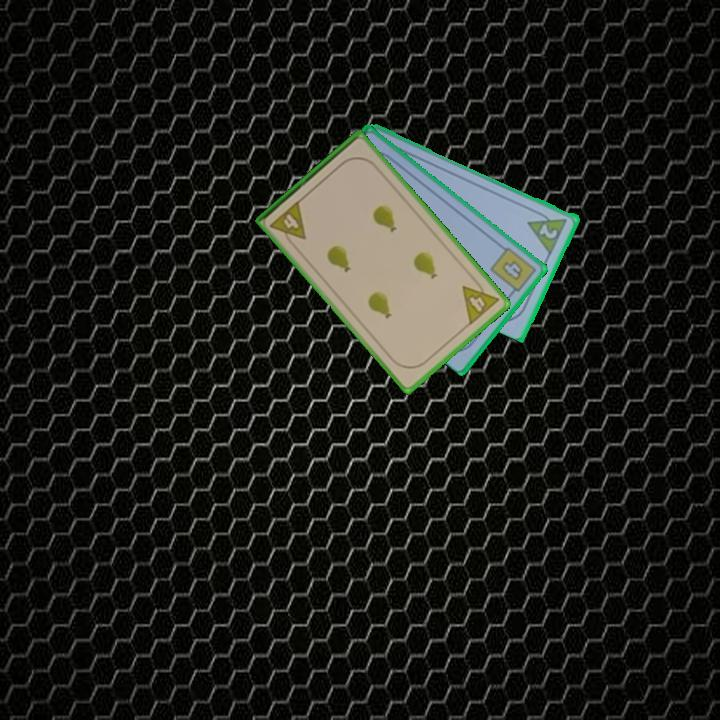2p: (524, 206, 571, 256)
4b: (487, 243, 539, 299)
4p: (459, 273, 502, 328), (266, 197, 309, 250)
